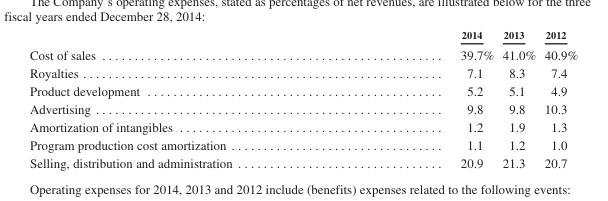table: (28, 28, 577, 170)
table column: (28, 28, 345, 170), (345, 28, 497, 170), (497, 28, 539, 170), (539, 28, 577, 170)
table column header: (28, 28, 577, 43)
table row: (28, 43, 577, 63), (28, 135, 577, 154), (28, 63, 577, 81), (28, 81, 577, 99), (28, 99, 577, 117), (28, 117, 577, 135), (28, 154, 577, 170), (28, 28, 577, 43)
